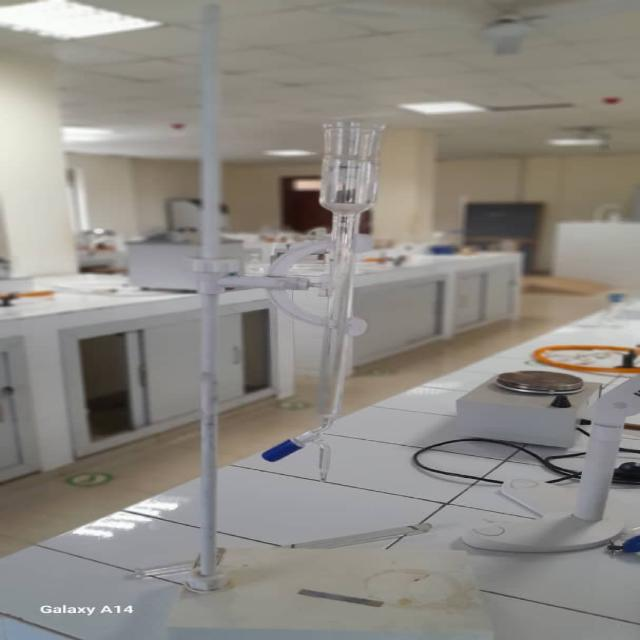Column Chromatography: (256, 113, 391, 490)
